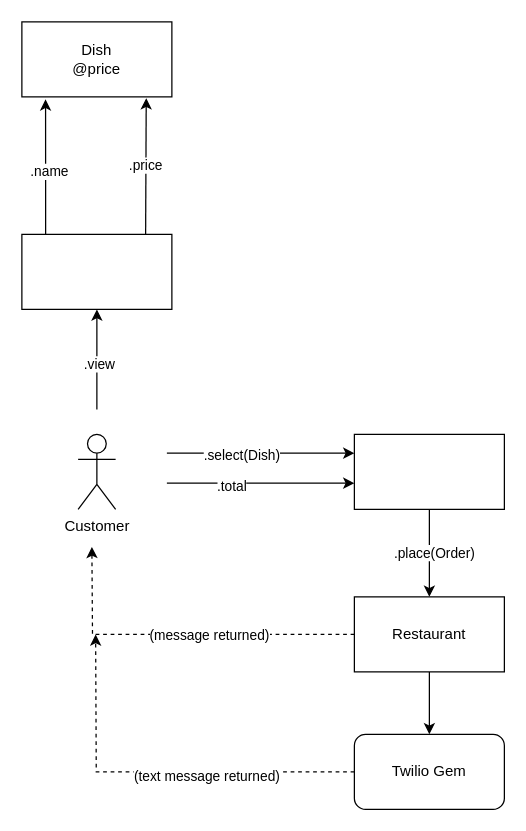
Some shapes in this 526 by 831 pixel diagram are drawn without their labels. The centre of each missing label's shape, as x and y in pixels:
"List" belongs at point 96,271.
"Order @dishes_array" belongs at point 428,471.
